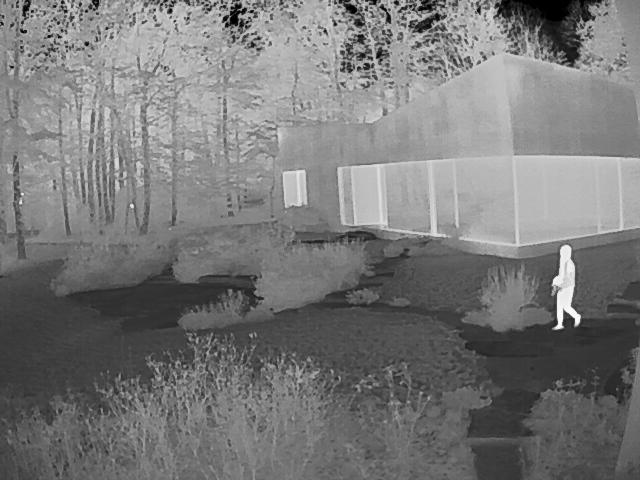person: (552, 243, 584, 329)
